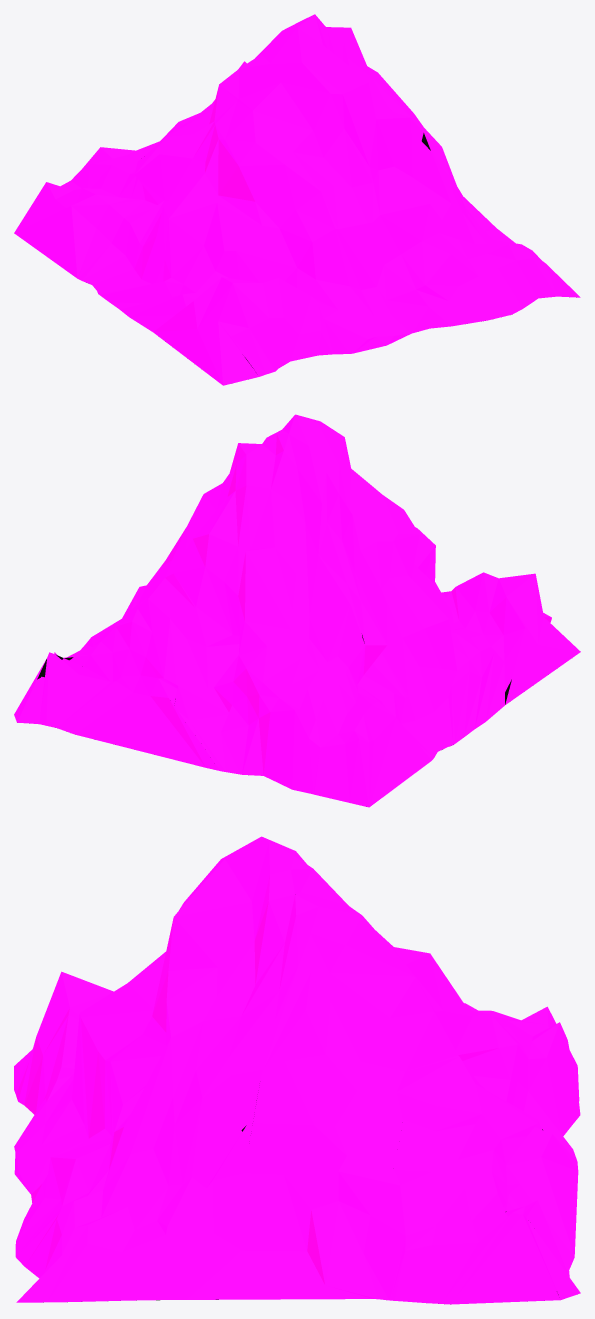
The model's file is Mountain_Hi.FBX.
The picture shows the model from 3 angles, top to bottom: view 1: azimuth 30°, elevation 25°; view 2: azimuth 150°, elevation 25°; view 3: azimuth 270°, elevation 25°; orthographic projection. The views are drawn at different scales.
Parts seen in each view (by area): view 1: Plane003; view 2: Plane003; view 3: Plane003.
Part boxes in pixels (x1,y1,x2,y2): Plane003: [14, 14, 580, 385]; Plane003: [14, 414, 580, 807]; Plane003: [14, 836, 580, 1304].
Size of the model in its own units: 901 by 611 by 905.
